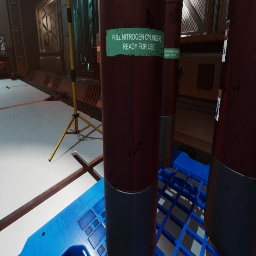EmergencyPhone ,: (63, 50, 66, 60)
NitrogenTank ,: (98, 0, 166, 256), (204, 0, 256, 256), (159, 0, 183, 166), (10, 72, 21, 80)
SafetySwitchPanel ,: (96, 33, 100, 63)
